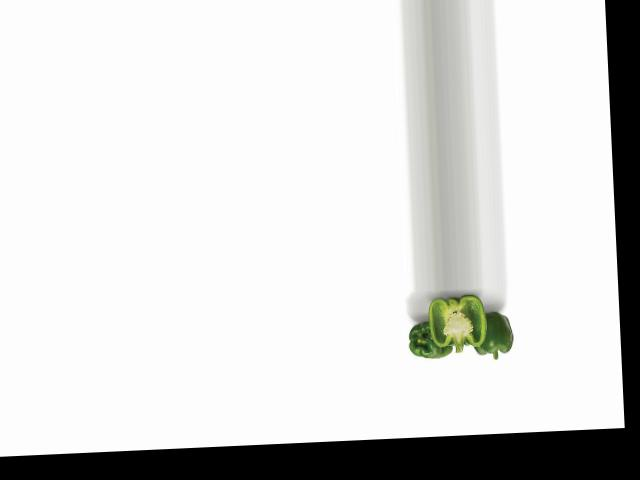bell_pepper: (403, 314, 457, 363)
